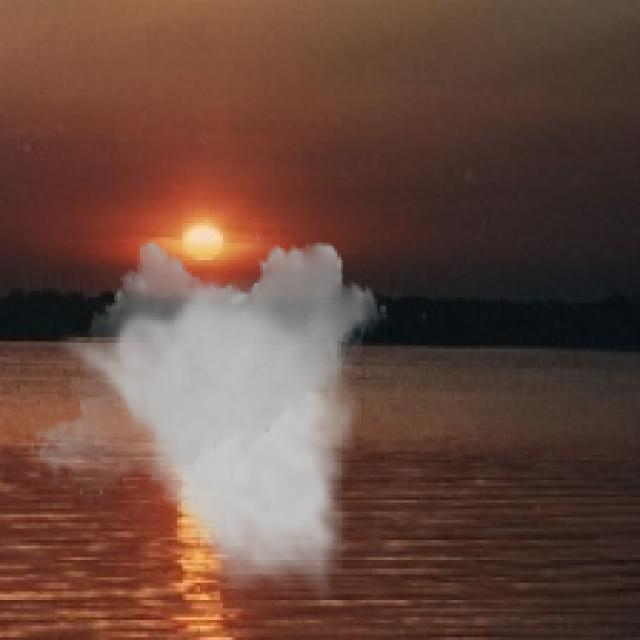smoke: (26, 231, 388, 603)
